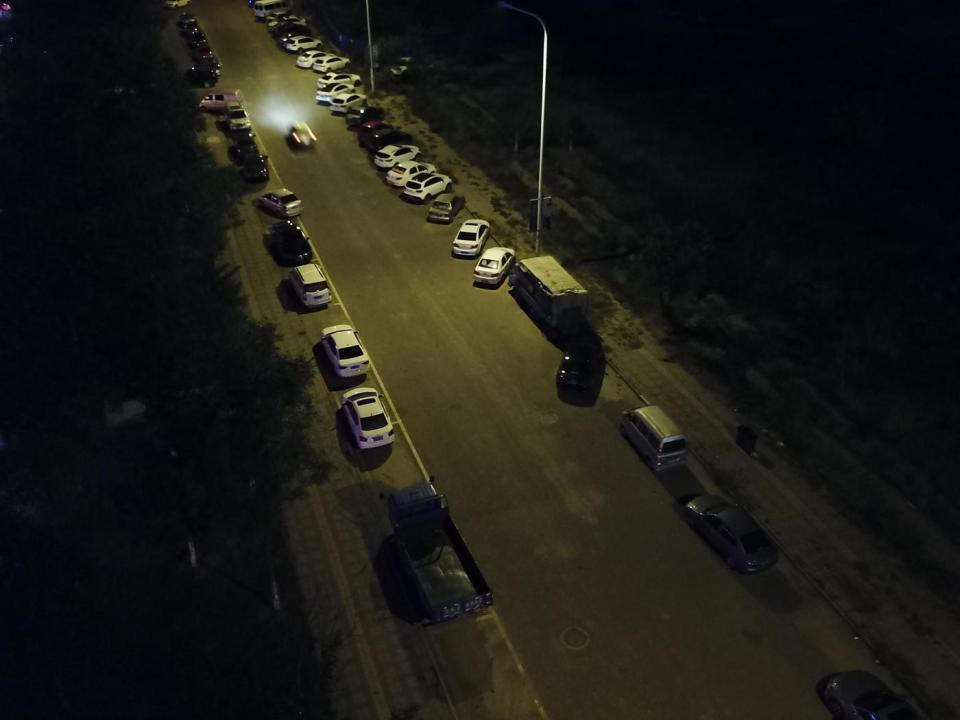car: (682, 492, 779, 572), (821, 670, 931, 720), (553, 331, 612, 399), (339, 388, 398, 454), (318, 322, 372, 378), (271, 219, 313, 264), (472, 244, 516, 286), (452, 219, 492, 258), (256, 188, 304, 218), (405, 172, 453, 202), (385, 161, 438, 187), (425, 191, 466, 224), (373, 144, 423, 171), (365, 128, 412, 154), (390, 54, 436, 76), (224, 100, 255, 132), (286, 118, 318, 148), (357, 121, 396, 145), (177, 67, 219, 89), (344, 105, 386, 127), (242, 152, 272, 182), (294, 48, 341, 67), (314, 82, 358, 102), (328, 91, 369, 112), (314, 72, 362, 88), (314, 56, 353, 74), (285, 35, 323, 53), (232, 132, 259, 155), (271, 24, 312, 38), (278, 34, 317, 48), (266, 11, 306, 24), (269, 17, 306, 31), (201, 56, 223, 74), (193, 42, 214, 60), (178, 12, 198, 26), (190, 31, 206, 44), (184, 21, 200, 34)
truck: (382, 482, 494, 626), (511, 253, 590, 331)
van: (622, 405, 690, 468), (288, 263, 333, 310), (200, 90, 246, 114), (253, 1, 296, 19)
